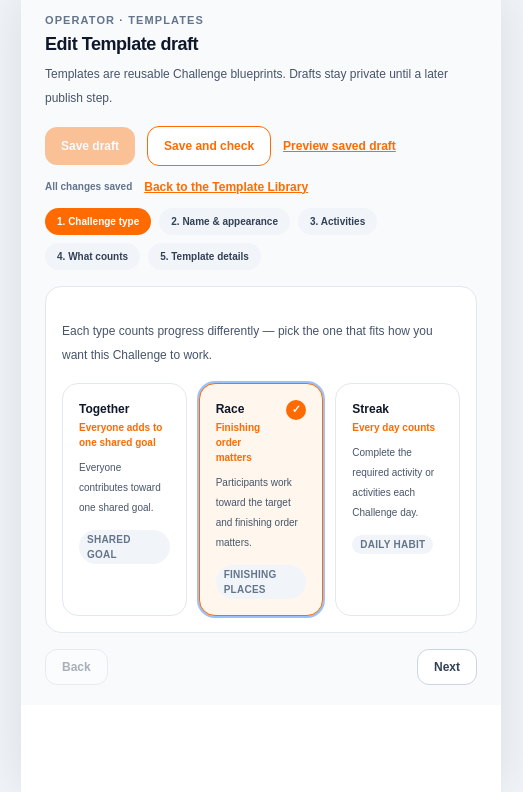
Test: conflict reconciliation › offers no one-click overwrite: saving and applying stay blocked until every real conflict is decided
The width and height of the screenshot is (523, 792).
Click the button "5. Template details".
click(204, 256)  # box [148,242,261,270]
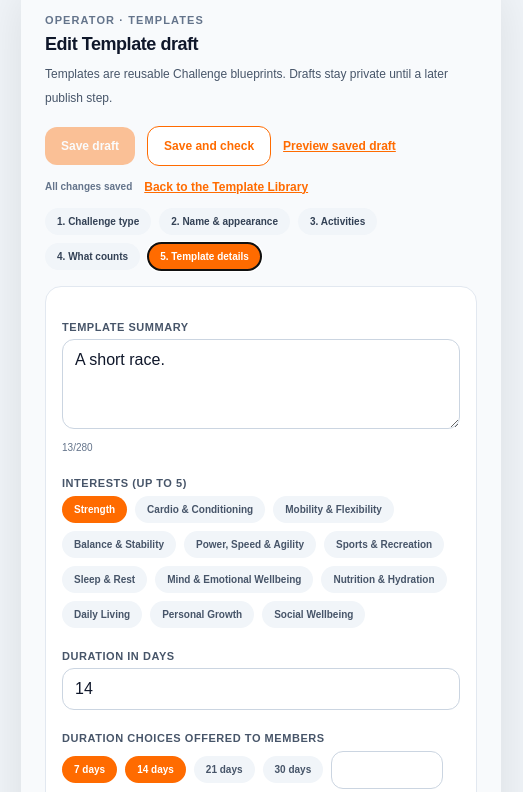
Replace the text in the text box labelled "Template summary" with "Mine" at (261, 384), box [62,339,460,429]
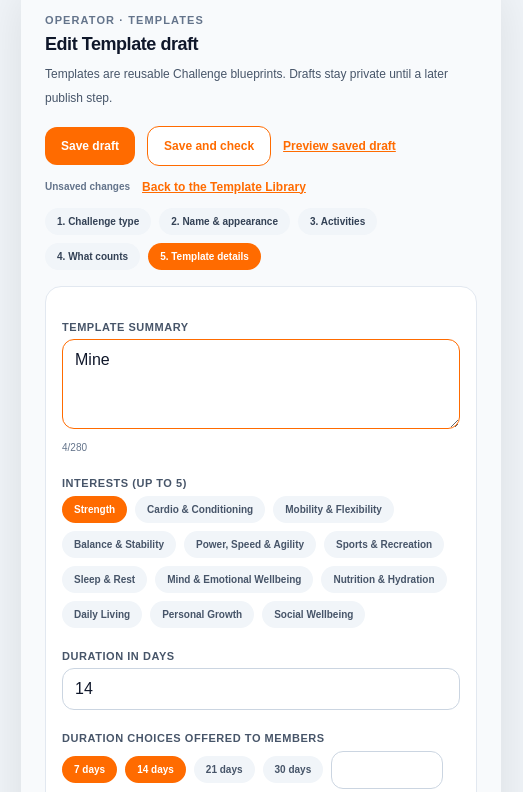
Click the button "Save draft".
click(90, 146)  # box [45,126,135,164]
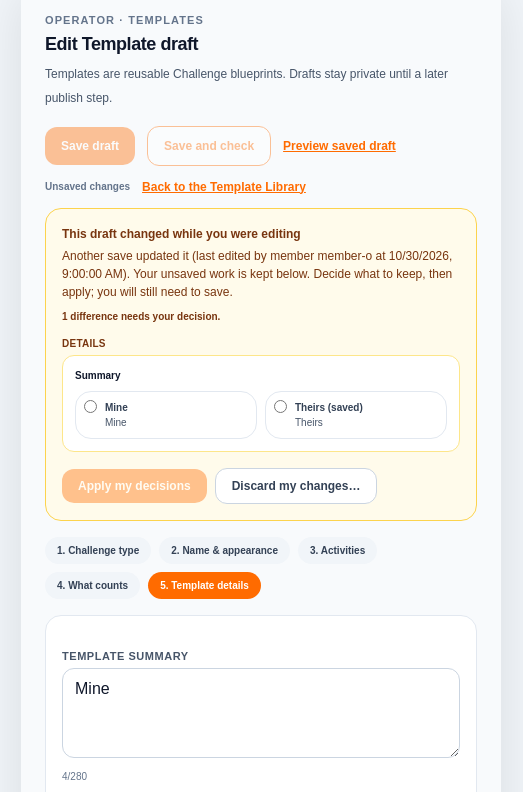
Expected: the button "Save draft" is disabled, [45,126,135,164]
Expected: the button "Apply my decisions" is disabled, [62,468,207,502]
Expected: the text "1 difference needs your decision." is shown, [62,310,220,322]
Click the radio button with aria-label "Summary: keep mine".
click(90, 406)  # box [84,400,97,412]
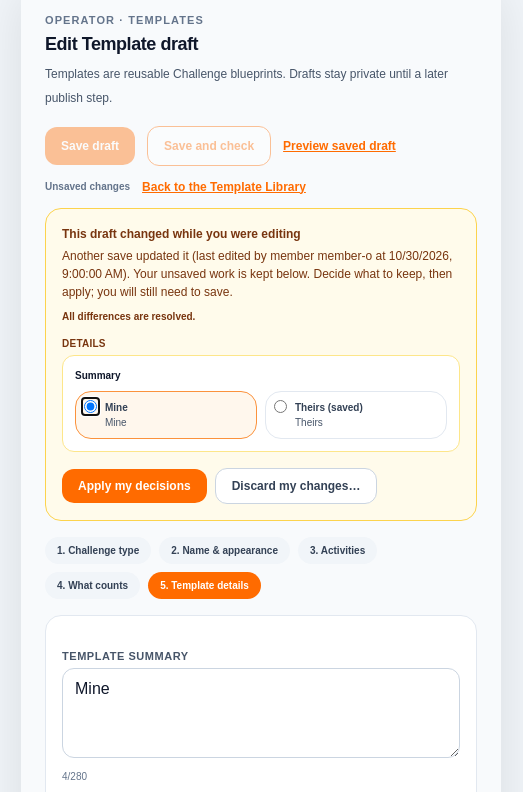
Expected: the button "Apply my decisions" is enabled, [62,468,207,502]
